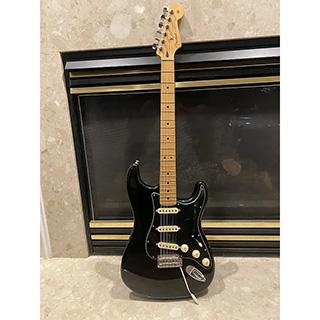Fender Stratocaster: (120, 2, 216, 306)
SSS: (153, 203, 183, 257)
